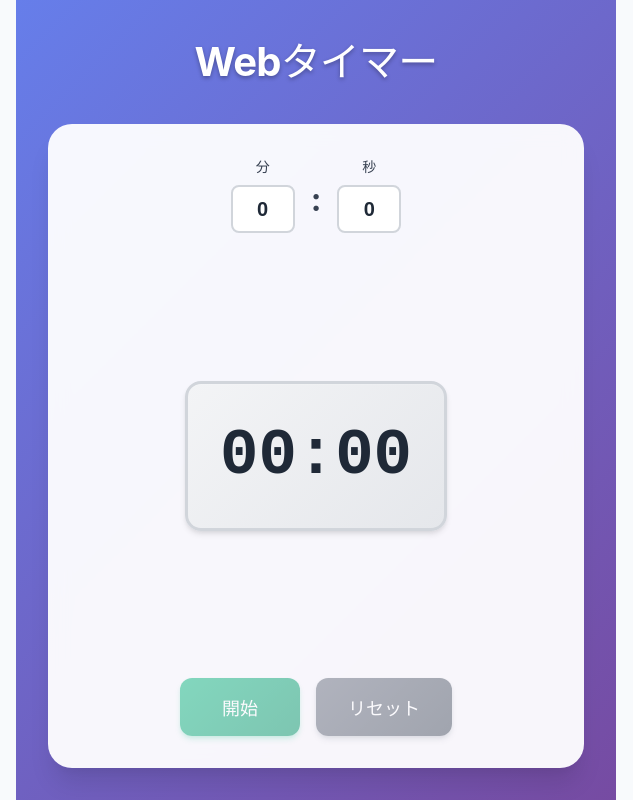
App Integration Tests › エラーハンドリング › 無効な入力値でもアプリケーションが動作する
# 無効な値を直接設定
Type "99" into the field named "分を入力" at (263, 209), box 231,185 -> 295,233
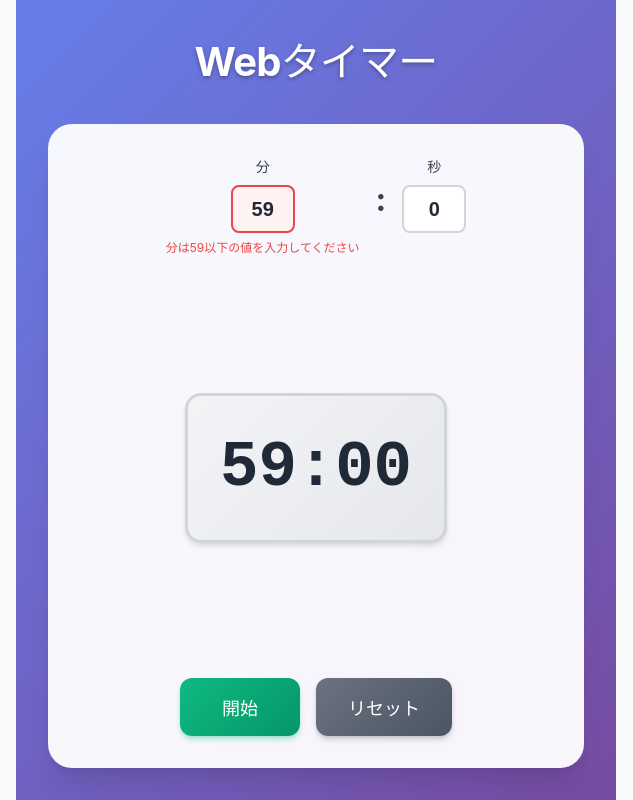
Expected: the heading "Webタイマー" is shown, 194,37 -> 438,86
Expected: the text "分は59以下の値を入力してください" is shown, 166,241 -> 360,257
